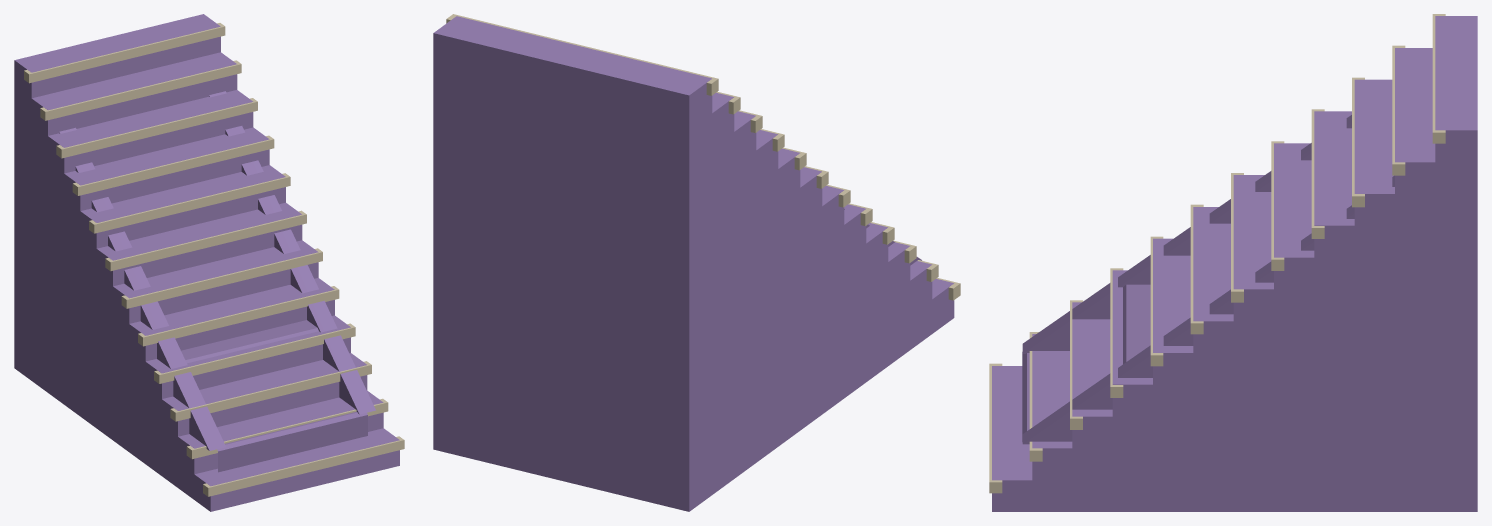
File: stairs-stone-lilac.glb
3 views of the same model, side by side, from view 1: azimuth 30°, elevation 25°; view 2: azimuth 150°, elevation 25°; view 3: azimuth 270°, elevation 25° (orthographic). The views are drawn at different scales.
Visible parts, largest first — view 1: stairs-stone-lilac; view 2: stairs-stone-lilac; view 3: stairs-stone-lilac.
Boxes of the visible parts, x1,y1,x2,y2 form: stairs-stone-lilac: [14, 14, 404, 511]; stairs-stone-lilac: [433, 14, 960, 511]; stairs-stone-lilac: [989, 14, 1477, 511].
Bounding box in the file's own units: 1.95 × 2.92 × 3.39.
